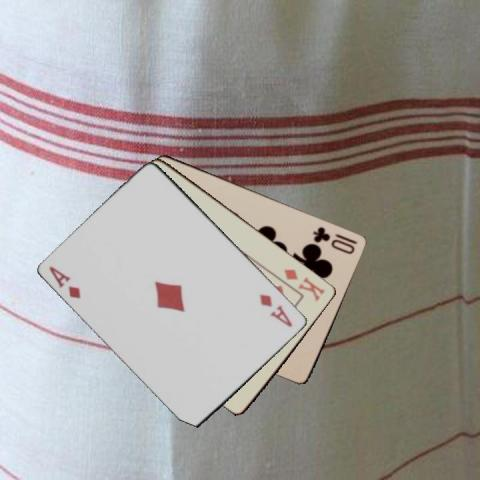10c: (310, 224, 359, 256)
Ad: (256, 290, 294, 328), (46, 263, 83, 300)
Kd: (282, 266, 328, 303)
